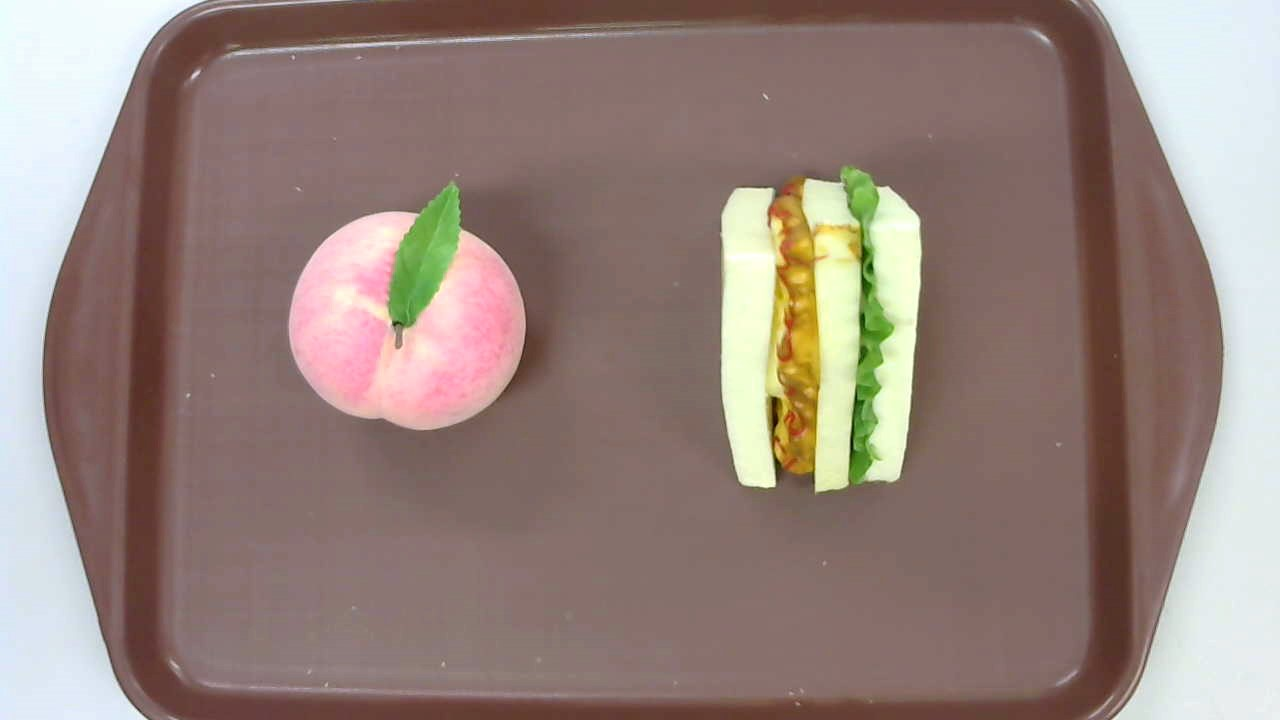peach: (287, 179, 527, 432)
sandwich: (720, 166, 922, 496)
